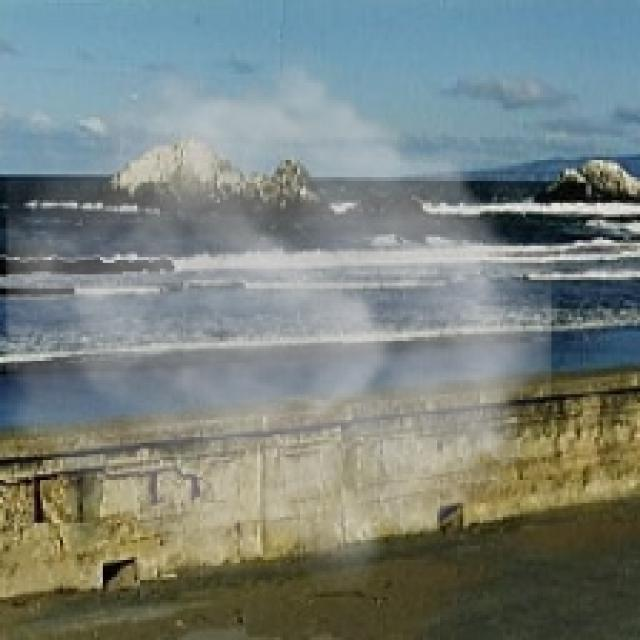Smoke: (6, 42, 552, 594)
